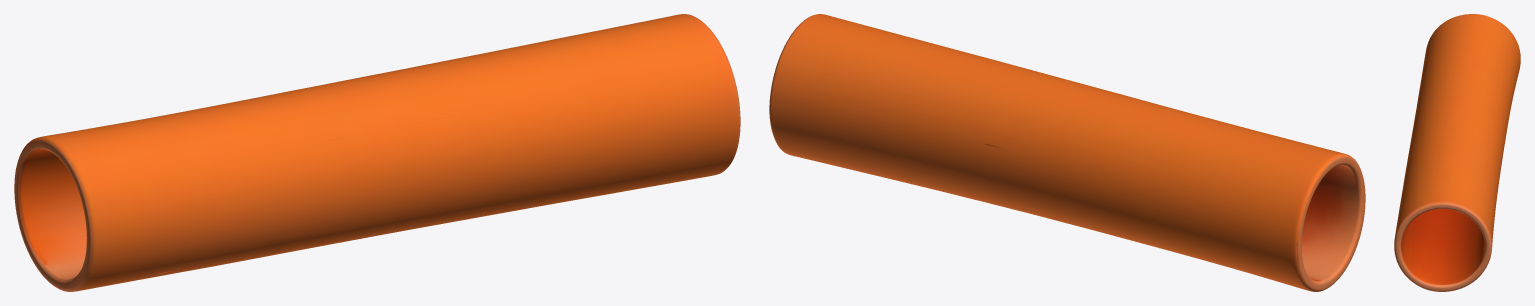
Rendered from pipe.glb.
3 renders of one model, left to right at view 1: azimuth 30°, elevation 25°; view 2: azimuth 150°, elevation 25°; view 3: azimuth 270°, elevation 25°, orthographic. The views are drawn at different scales.
Visible parts, largest first — view 1: material; view 2: material; view 3: material.
Boxes of the visible parts, box(x1,y1,x2,y2) form: material: box(14, 14, 740, 291); material: box(769, 14, 1365, 291); material: box(1394, 14, 1520, 291).
Size of the model in its own units: 1.15 by 0.2818 by 0.336.
1 material, 1 textured.
